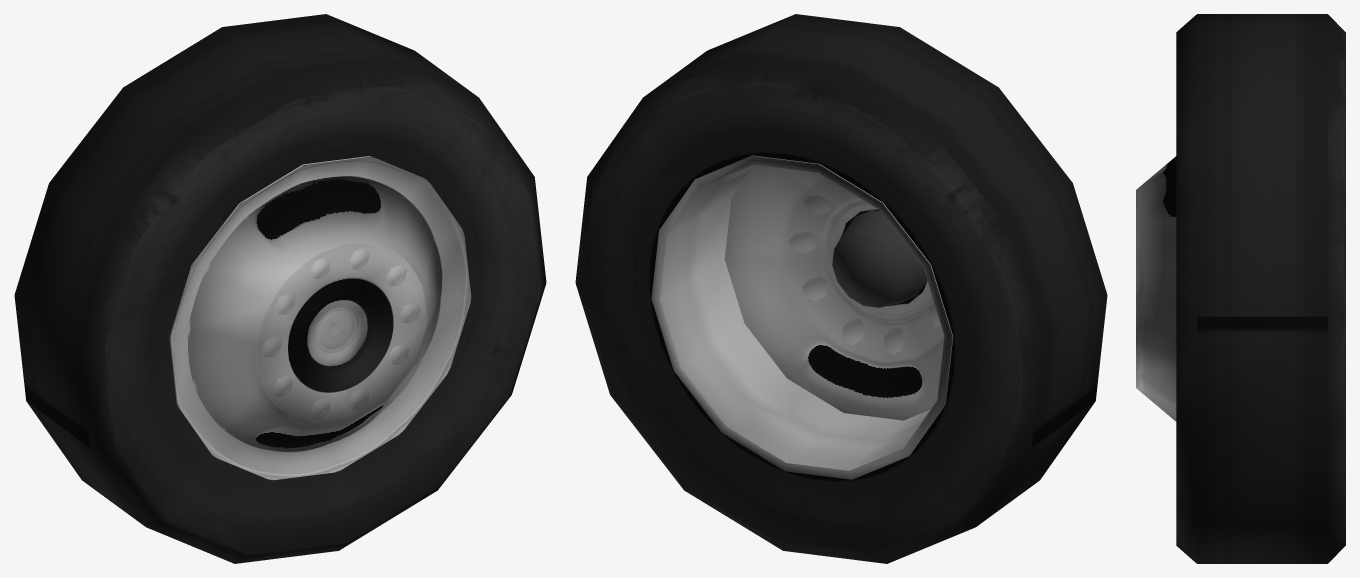
Rendered from wheel_FL 90 light commercial truck.fbx.
3 views of the same model, side by side, from view 1: azimuth 30°, elevation 25°; view 2: azimuth 150°, elevation 25°; view 3: azimuth 270°, elevation 25° (orthographic).
Parts seen in each view (by area): view 1: wheel_FL; view 2: wheel_FL; view 3: wheel_FL.
Boxes of the visible parts, x1,y1,x2,y2 form: wheel_FL: (14,14,546,563); wheel_FL: (575,14,1107,563); wheel_FL: (1136,14,1345,563).
Size of the model in its own units: 0.7354 by 0.7354 by 0.28.
